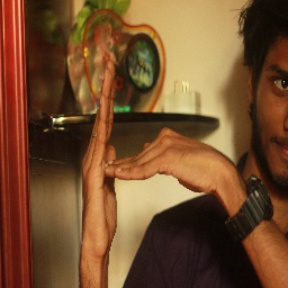Z: (74, 65, 223, 259)
